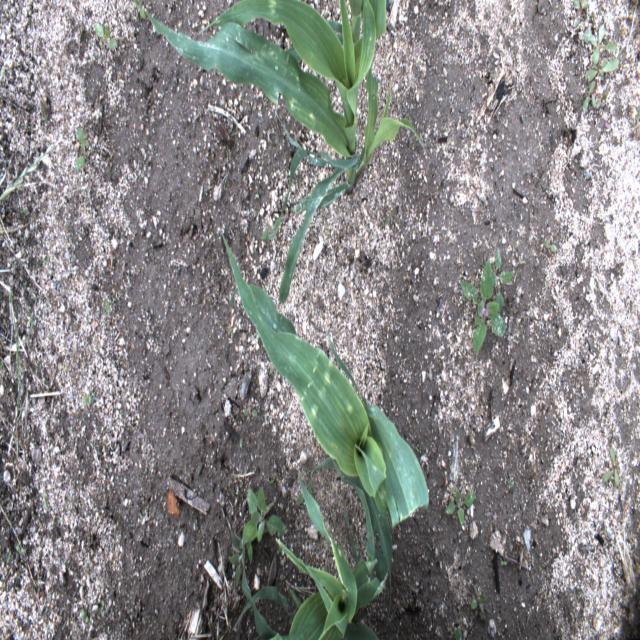crop: (147, 0, 425, 304), (221, 230, 429, 623), (228, 454, 389, 639)
weed: (460, 258, 508, 352), (582, 24, 620, 111), (0, 144, 54, 202), (243, 484, 285, 545), (7, 291, 21, 433), (486, 246, 513, 316), (229, 528, 254, 586), (443, 486, 476, 527), (602, 446, 620, 489), (75, 124, 89, 173), (95, 21, 116, 48), (470, 584, 488, 612), (572, 0, 590, 28), (295, 479, 313, 504), (134, 1, 146, 21), (543, 238, 558, 254), (79, 607, 90, 624), (82, 394, 92, 406), (42, 492, 46, 508)
